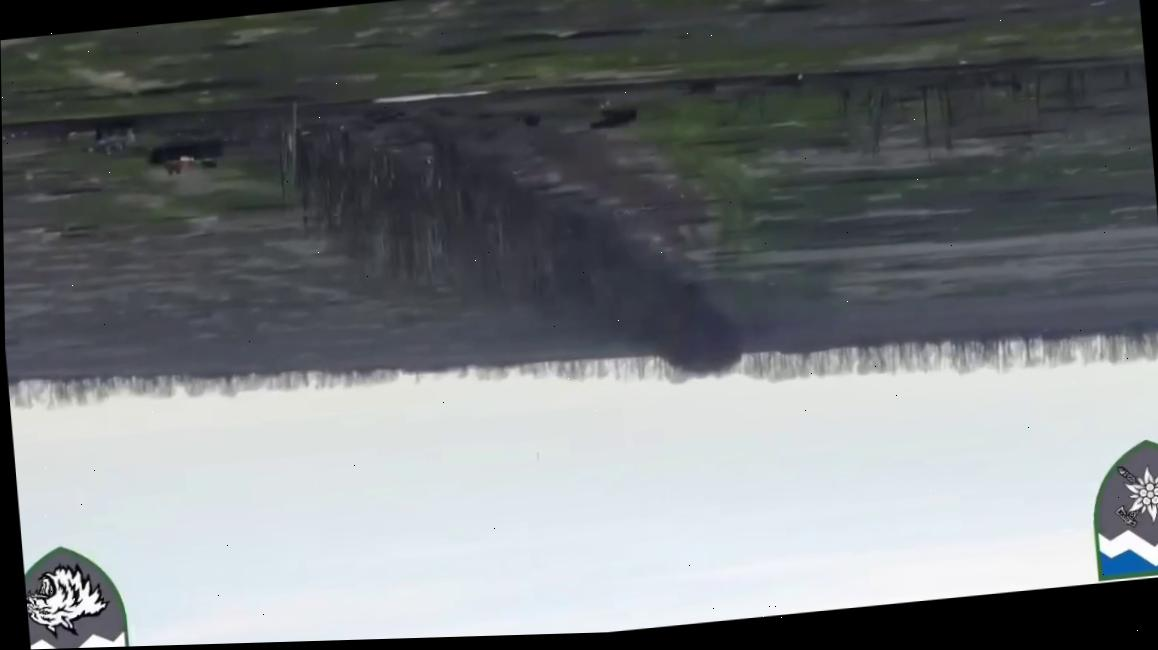vehicle: (151, 137, 226, 177), (94, 114, 145, 156)
